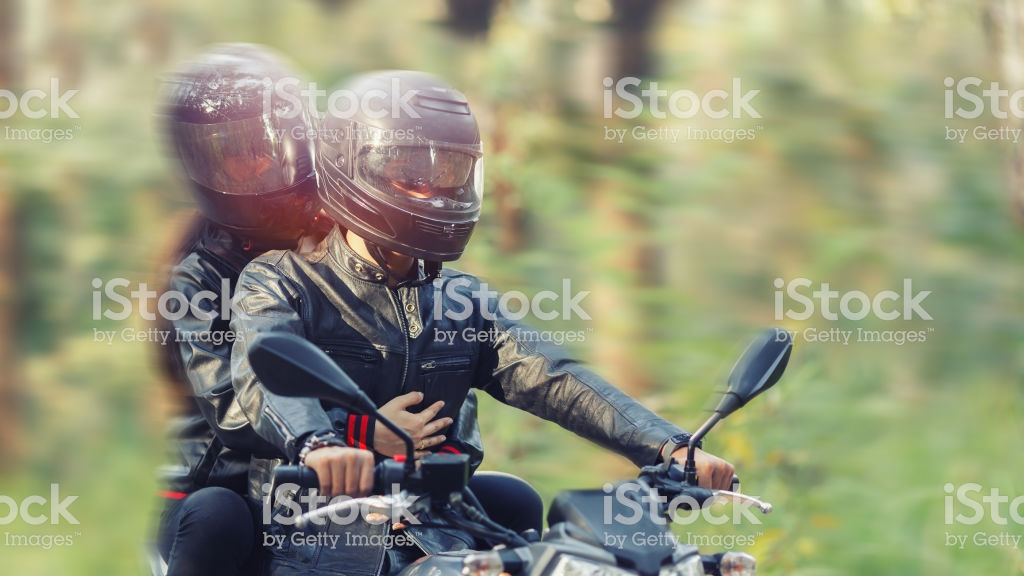helmet: (324, 73, 495, 250)
